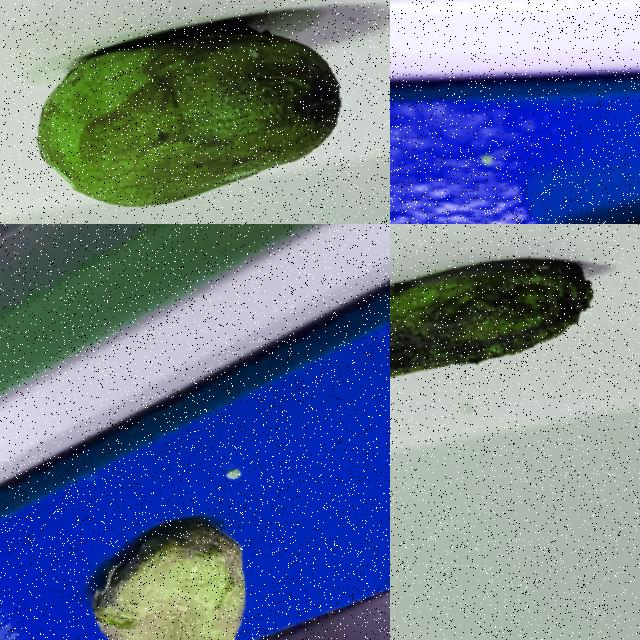Fine_cocoabeans: (0, 0, 389, 223)
Flat_cocoabeans: (390, 224, 639, 438), (3, 473, 296, 639), (393, 89, 639, 223)
